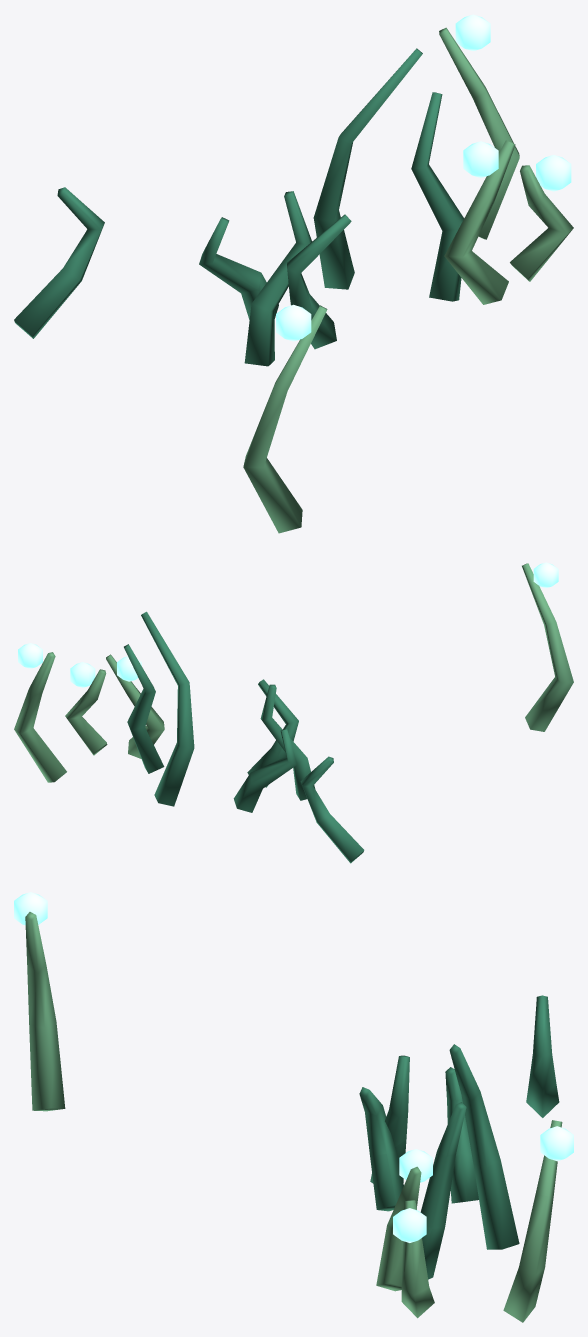
The model's file is grotto_gc_algae_b.glb.
The picture shows the model from 3 angles, top to bottom: view 1: azimuth 30°, elevation 25°; view 2: azimuth 150°, elevation 25°; view 3: azimuth 270°, elevation 25°; orthographic projection. The views are drawn at different scales.
Parts seen in each view (by area): view 1: grotto_gc_algae_b; view 2: grotto_gc_algae_b; view 3: grotto_gc_algae_b.
Boxes of the visible parts, x1=… form: grotto_gc_algae_b: x1=14, y1=14, x2=573, y2=533; grotto_gc_algae_b: x1=14, y1=562, x2=573, y2=863; grotto_gc_algae_b: x1=14, y1=892, x2=573, y2=1322.
Bounding box in the file's own units: 2.13 × 0.9178 × 2.02.
